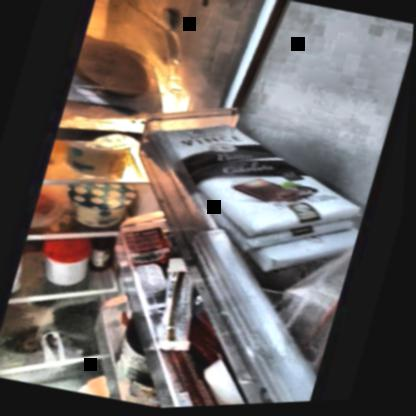chocolate: (144, 116, 379, 251)
salami: (70, 34, 161, 108)
yoghurt: (62, 179, 140, 234), (64, 139, 133, 183)
